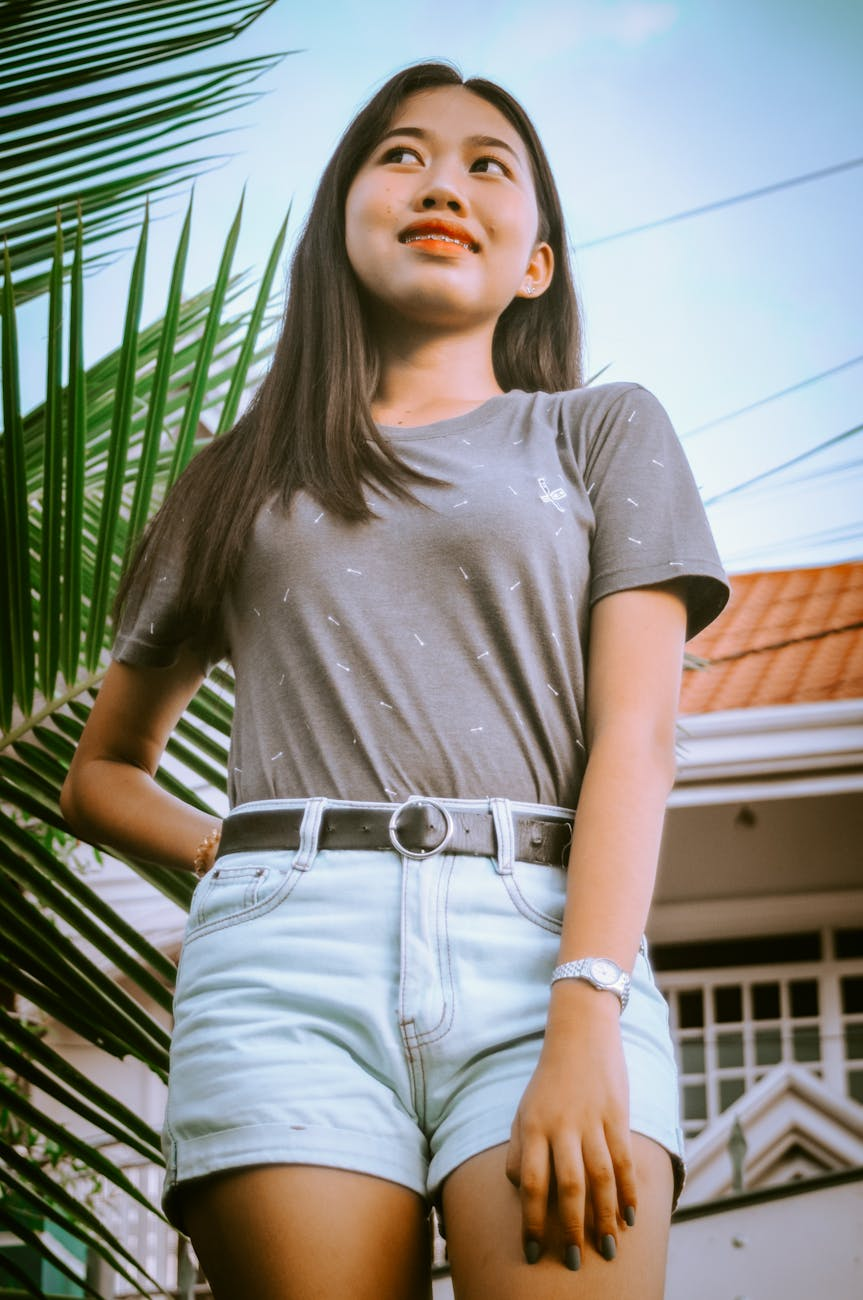shorts: (170, 806, 675, 1205)
